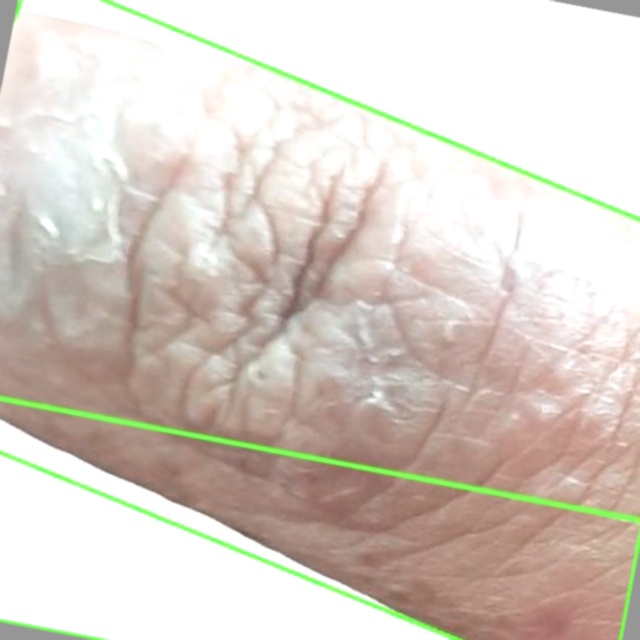Eczema: (0, 0, 639, 639), (0, 398, 639, 639)
